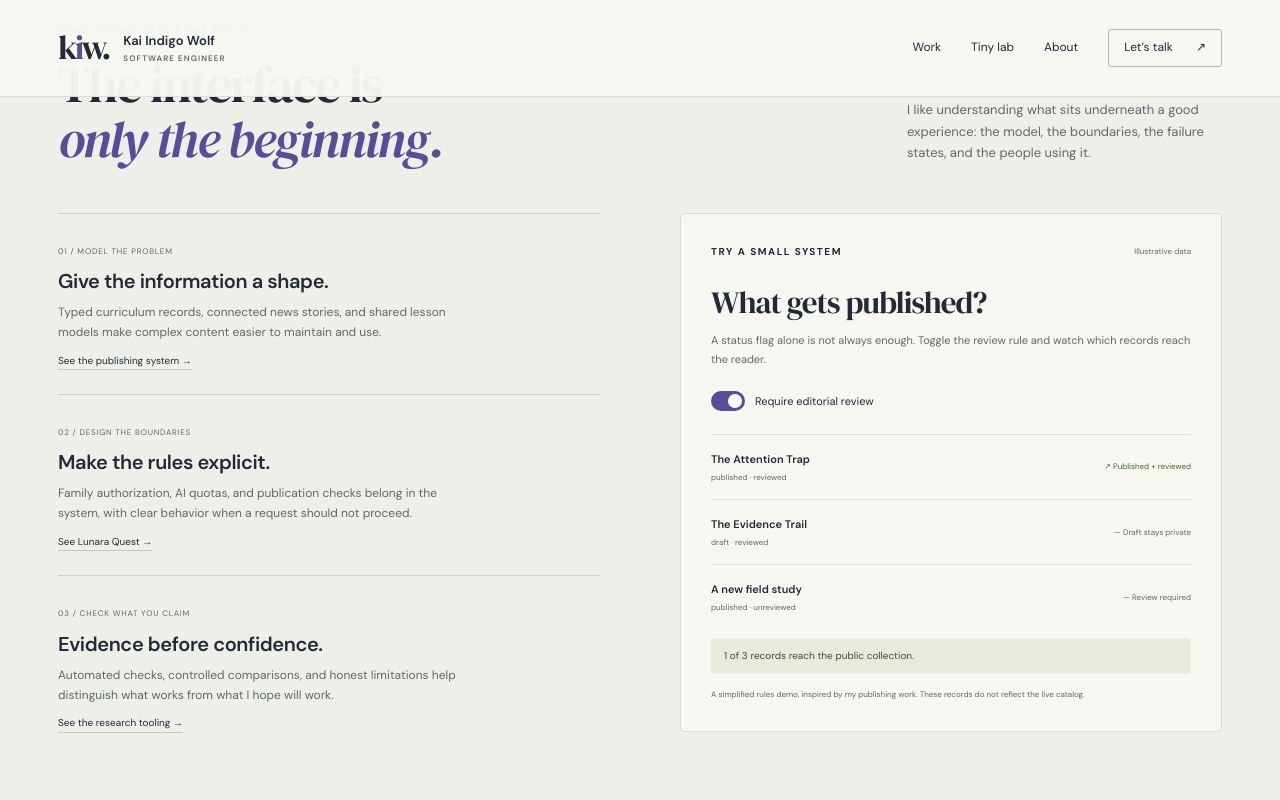
Test case: review gate changes the demo output while drafts stay private
This screenshot has width=1280, height=800.
(page scrolled)
Check: the text "1 of 3 records reach the public collection." is shown, box [711,638,1191,674]
Click the checkbox labelled "Require editorial review" at [792, 401], box [711,391,874,411]
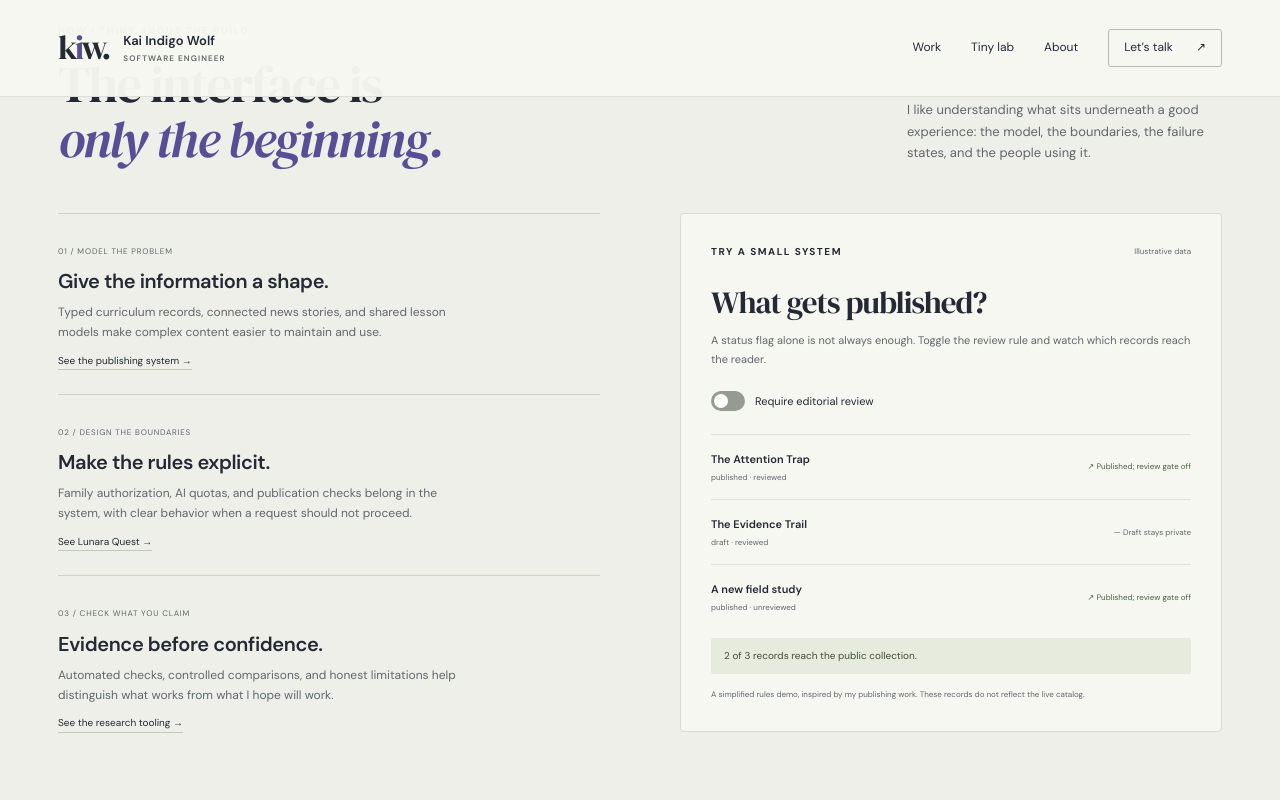
Check: the text "— Draft stays private" is shown, box [1114,526,1191,539]
Check: the text "2 of 3 records reach the public collection." is shown, box [711,638,1191,674]
